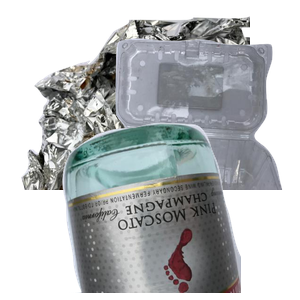glass: (60, 120, 300, 300)
metal: (19, 14, 259, 194)
plastic: (80, 36, 300, 216)
trash: (109, 175, 279, 300)
